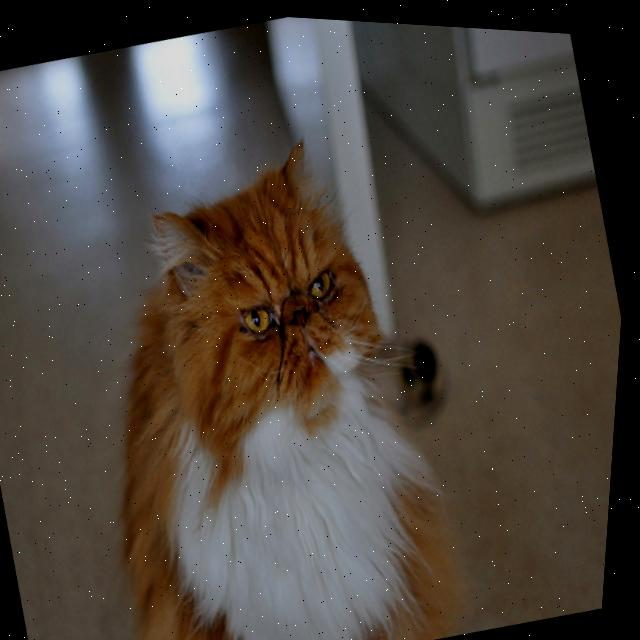Persian: (24, 95, 506, 640)
